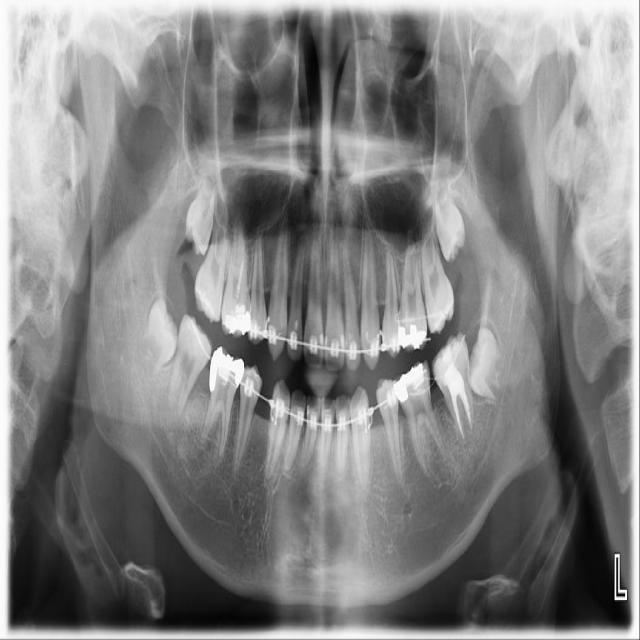Filling: (209, 346, 244, 390)
Root Canal Treatment: (449, 388, 465, 443), (462, 377, 472, 425)
